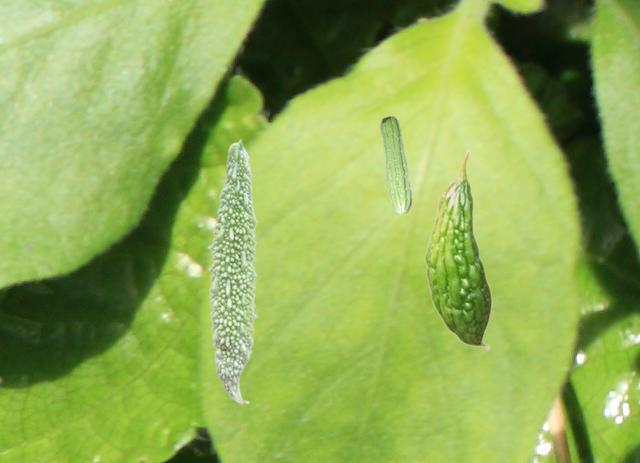ampalaya: (206, 136, 260, 405), (423, 149, 492, 351), (379, 115, 414, 216)
